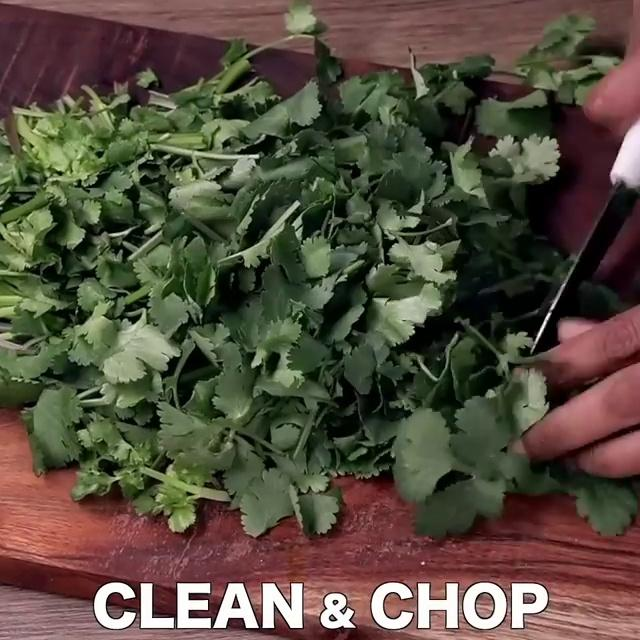cilantro: (0, 83, 496, 477)
